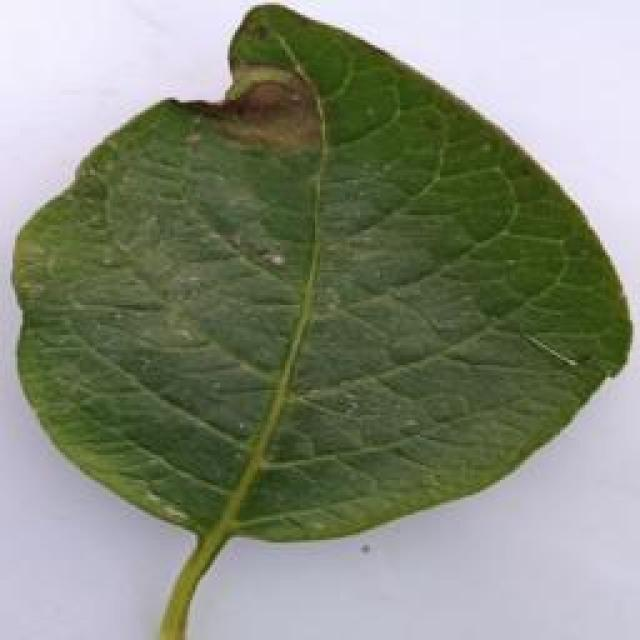Potato_Late_Blight: (13, 7, 623, 625)
